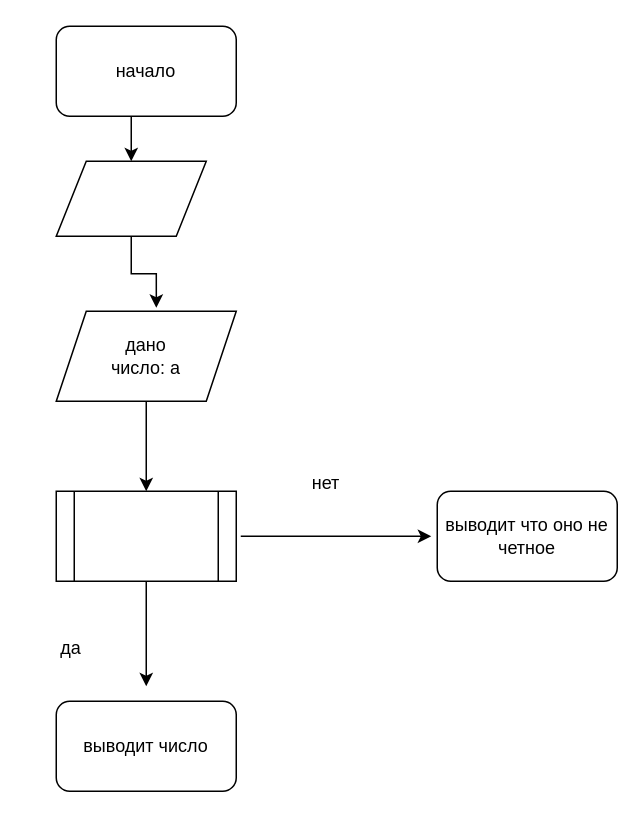
The diagram is 644 pixels wide and 818 high, and some of its shapes have lost their labels. Each missing label, with the centre of its shape:
"пользователь вводит число" goes at (x=130, y=198).
"проверяет a if a % 2 ==0:" goes at (x=145, y=535).
